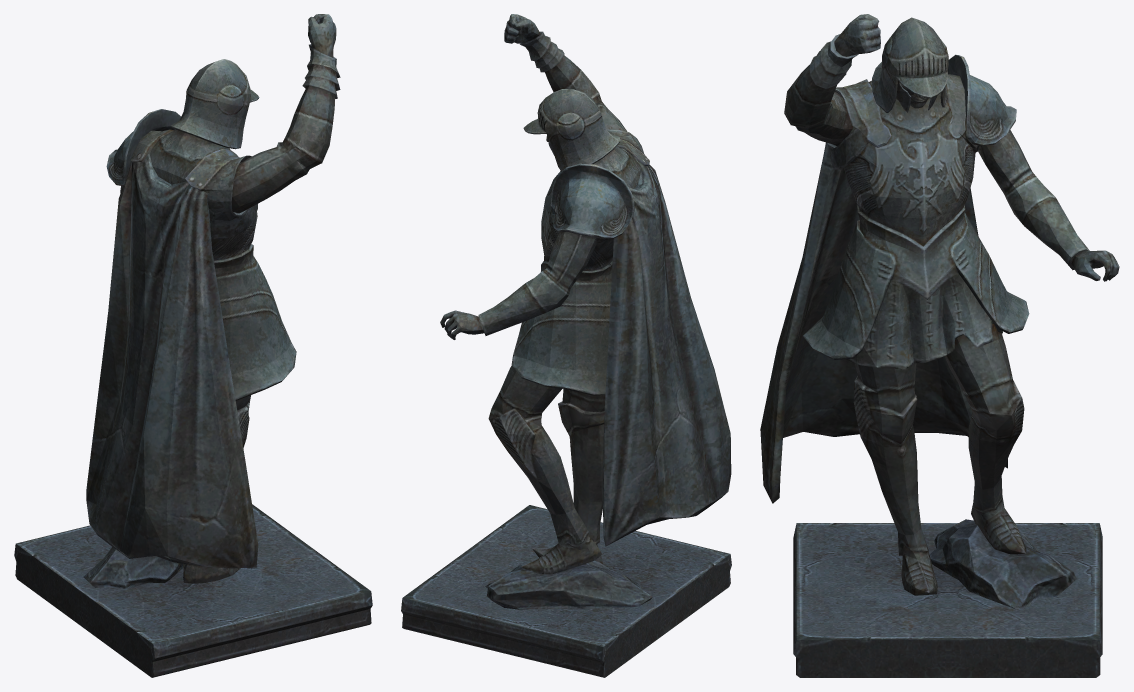
Rendered from bg_lut_lucastle_herostatue14_sm_artree.FBX.
3 renders of one model, left to right at view 1: azimuth 30°, elevation 25°; view 2: azimuth 150°, elevation 25°; view 3: azimuth 270°, elevation 25°, orthographic. The views are drawn at different scales.
Parts seen in each view (by area): view 1: bg_lut_lucastle_herostatue14_sm_artree; view 2: bg_lut_lucastle_herostatue14_sm_artree; view 3: bg_lut_lucastle_herostatue14_sm_artree.
Part boxes in pixels (left/top/right/bottom): bg_lut_lucastle_herostatue14_sm_artree: left=14, top=14, right=372, bottom=677; bg_lut_lucastle_herostatue14_sm_artree: left=401, top=14, right=731, bottom=677; bg_lut_lucastle_herostatue14_sm_artree: left=760, top=14, right=1119, bottom=677.
Size of the model in its own units: 149 by 361 by 181.
